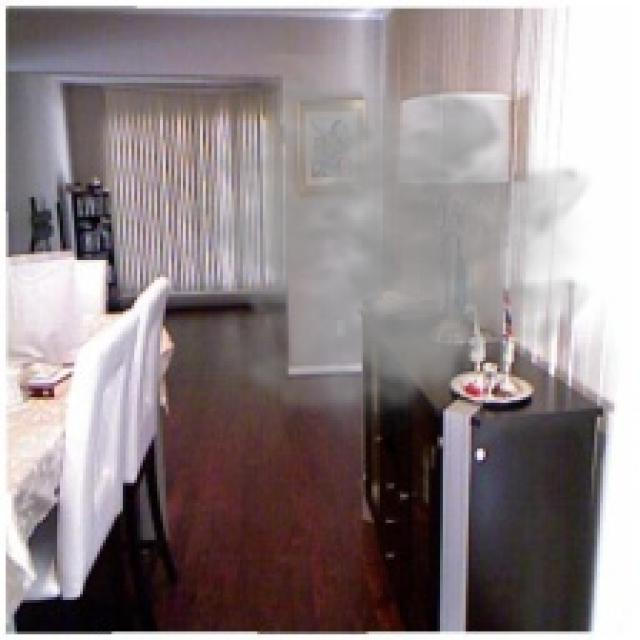smoke: (183, 54, 594, 452)
